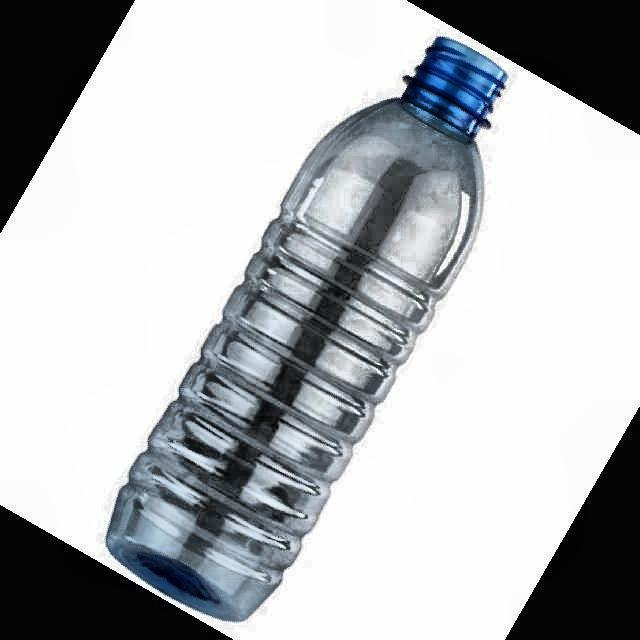plastic: (106, 38, 506, 619)
